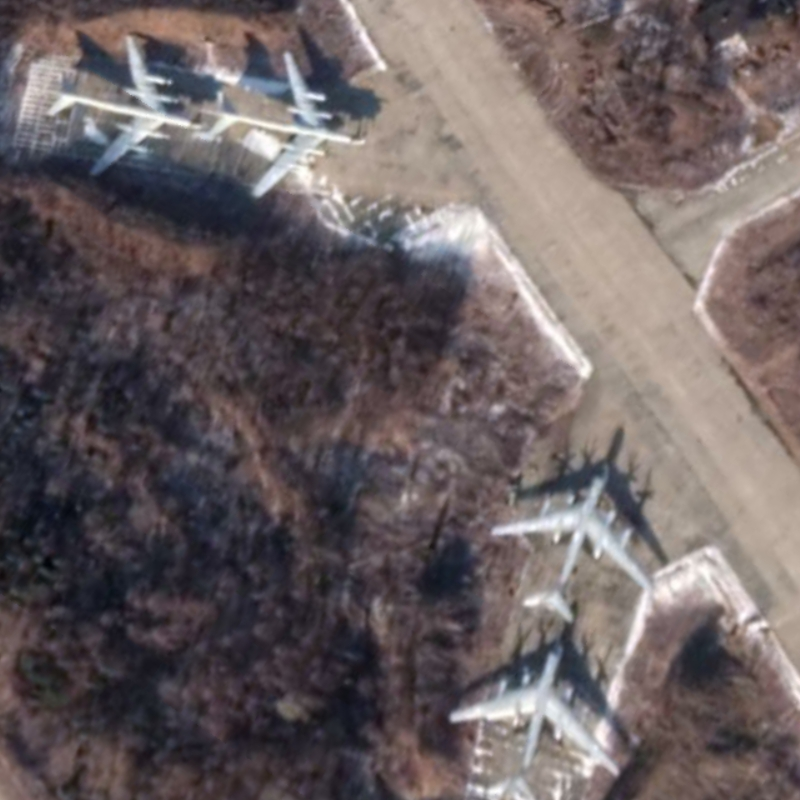A17: (445, 635, 625, 800), (487, 458, 658, 626), (201, 47, 367, 202), (41, 30, 206, 178)
